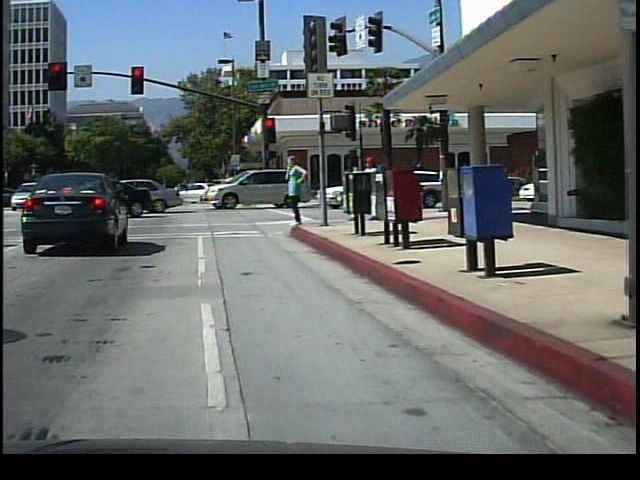person: (284, 148, 314, 228), (362, 150, 387, 221), (342, 150, 365, 220)
